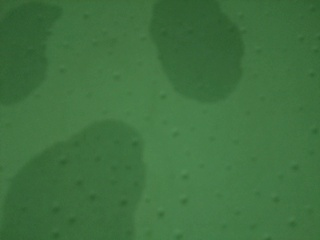Water_detected: (37, 134, 152, 240), (154, 15, 219, 87), (3, 24, 52, 86)
